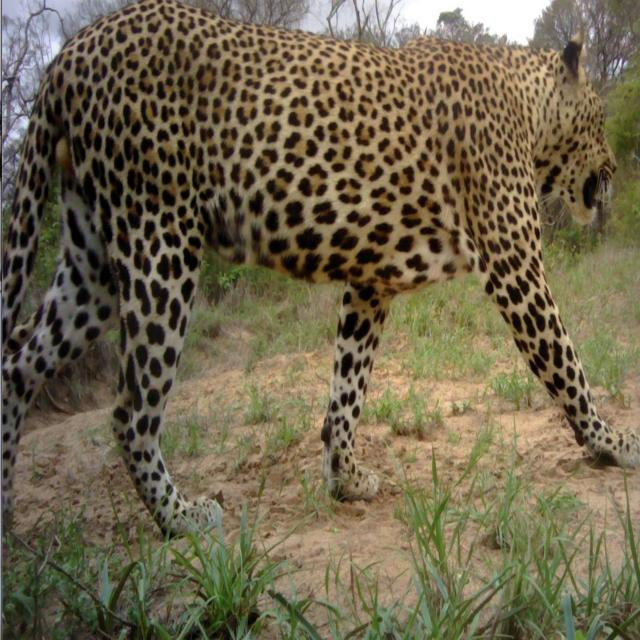Leopard: (4, 23, 640, 561)
